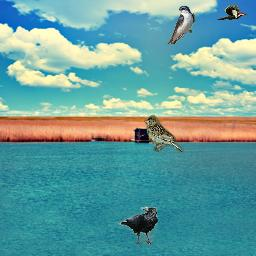Crow: (118, 207, 158, 245)
Sparrow: (144, 115, 184, 152)
Swallow: (167, 5, 195, 45)
Woodpecker: (217, 5, 248, 20)
